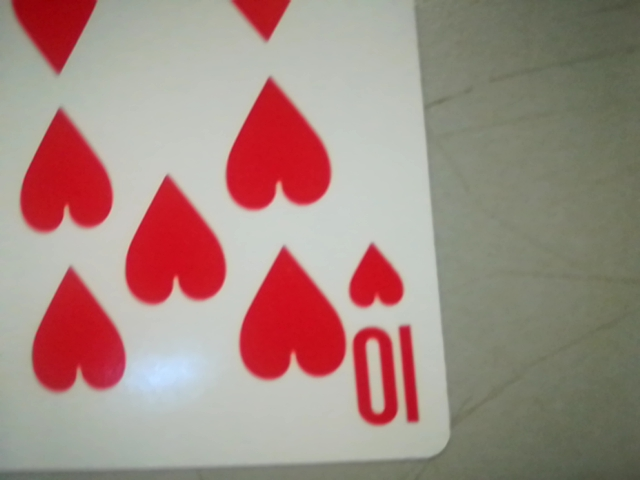hx 10: (339, 222, 438, 447)
